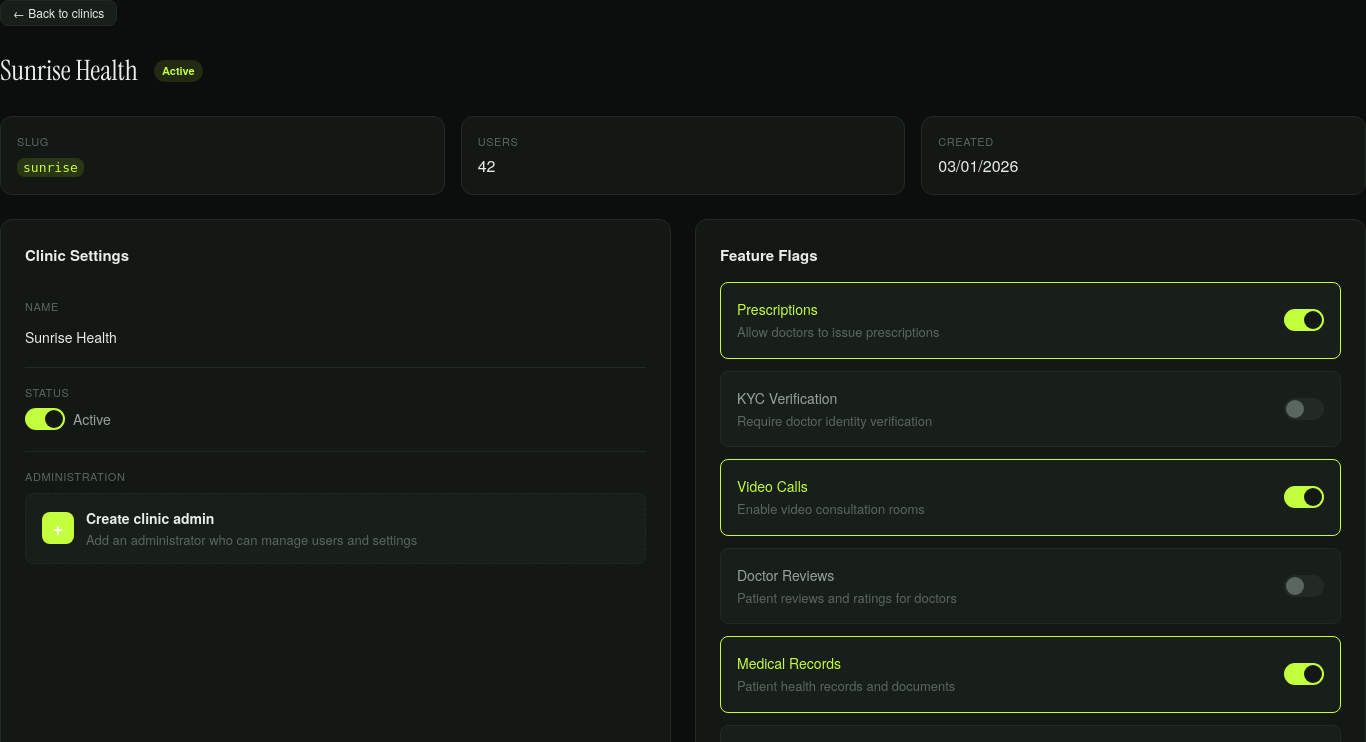
Scenario: ClinicDetailPage › status toggle › deactivating shows confirmation dialog instead of toggling immediately
The width and height of the screenshot is (1366, 742).
expect the heading "Sunrise Health" is shown: met, box left=0, top=50, right=138, bottom=92
Click the switch labelled "Active".
click(68, 419)  # box left=25, top=408, right=111, bottom=430
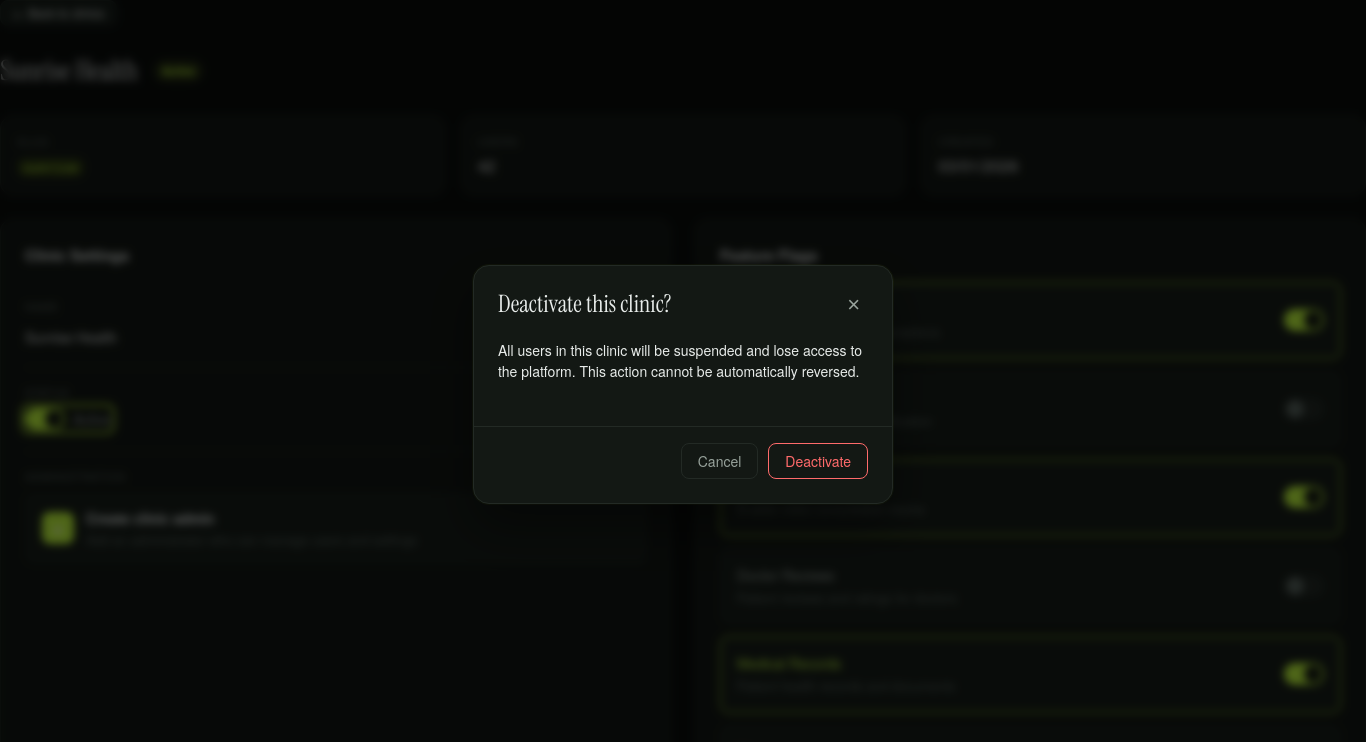
expect the heading "Deactivate this clinic?" is shown: met, box left=498, top=290, right=671, bottom=318
